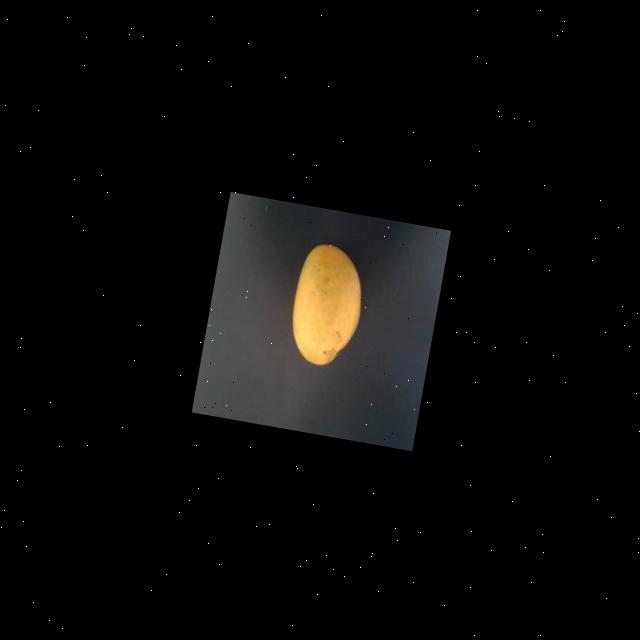Mango: (282, 239, 370, 371)
